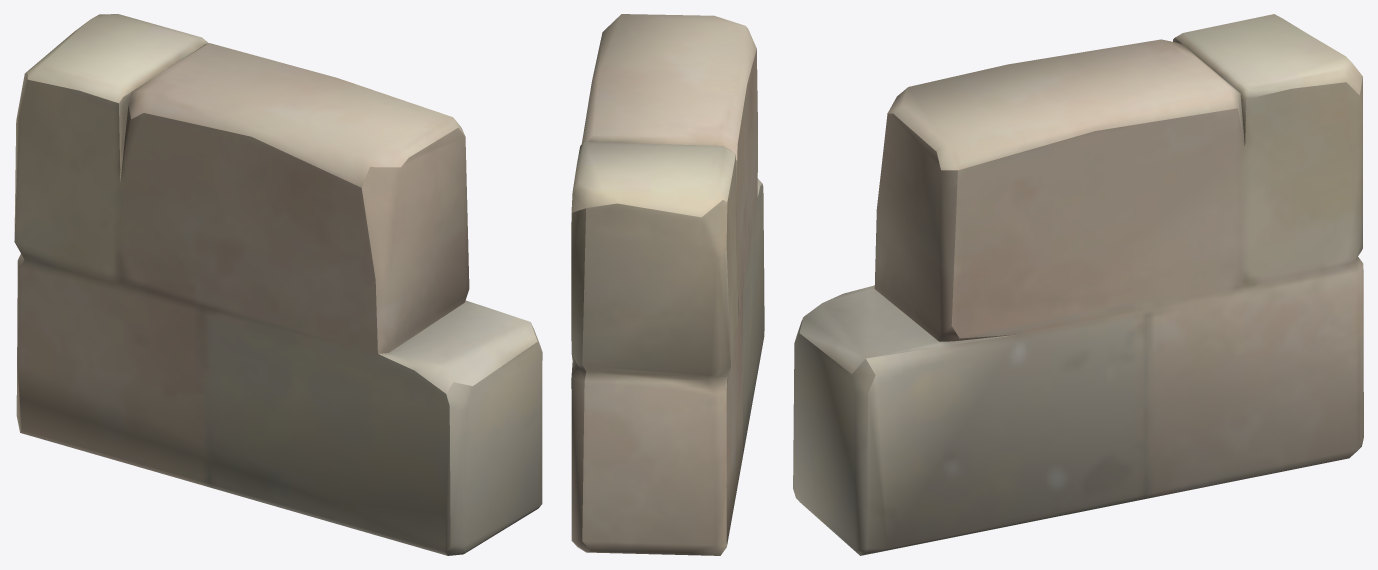
The model's file is Group02_zhuankuai01.fbx.
3 renders of one model, left to right at view 1: azimuth 30°, elevation 25°; view 2: azimuth 150°, elevation 25°; view 3: azimuth 270°, elevation 25°, orthographic. The views are drawn at different scales.
Parts seen in each view (by area): view 1: Group02_zhuankuai01__69_; view 2: Group02_zhuankuai01__69_; view 3: Group02_zhuankuai01__69_.
Boxes of the visible parts, x1,y1,x2,y2 form: Group02_zhuankuai01__69_: [14, 14, 542, 555]; Group02_zhuankuai01__69_: [571, 14, 764, 555]; Group02_zhuankuai01__69_: [793, 14, 1363, 555].
Size of the model in its own units: 129 by 142 by 188.
